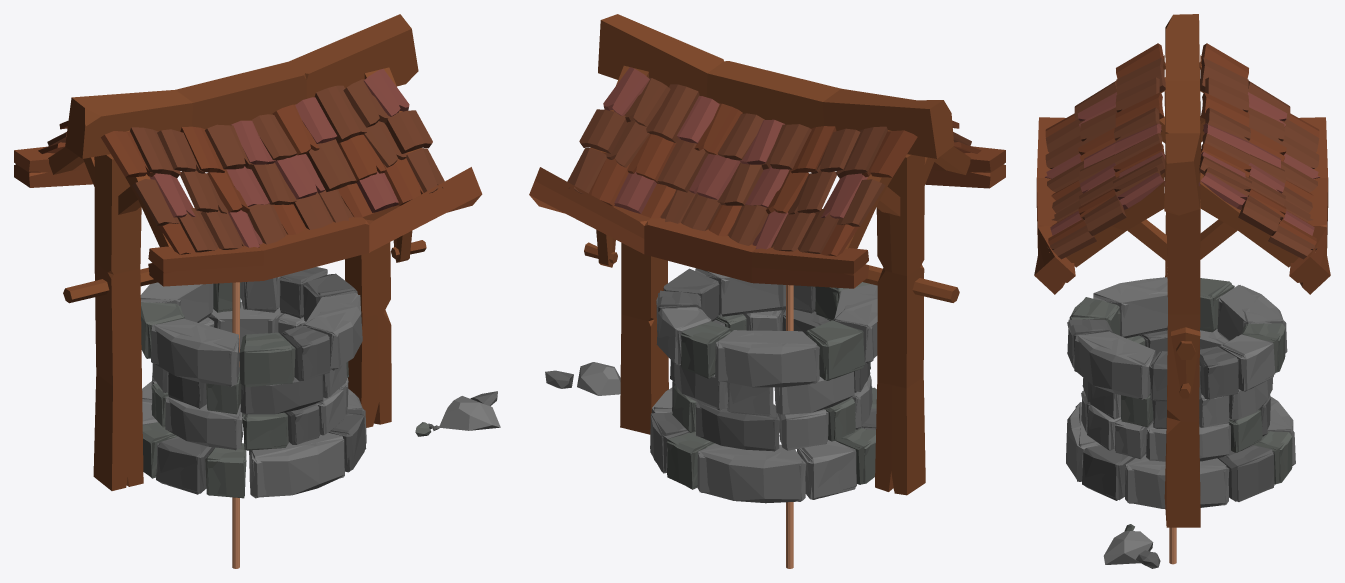
Rendered from well.fbx.
3 renders of one model, left to right at view 1: azimuth 30°, elevation 25°; view 2: azimuth 150°, elevation 25°; view 3: azimuth 270°, elevation 25°, orthographic. The views are drawn at different scales.
Visible parts, largest first — view 1: Cube.004, Cube.009, Cube.006, Cube.007, Cube.003, Cube.001, Cube.002, Cube.005, Cube.064, Cube.048, Icosphere, Cube.065 (+36 smaller); view 2: Cube.004, Cube.009, Cube.006, Cube.007, Cube.003, Cube.005, Cube.002, Cube.001, Cube.064, Cube.048, Cube.065, Cube.053 (+36 smaller); view 3: Cube.004, Cube.003, Cube.005, Cube.009, Cube.007, Cube.001, Cube.002, Cube, Cube.056, Cube.052, Cube.008, Cube.031 (+32 smaller).
Boxes of the visible parts, x1=… form: Cube.004: x1=140, y1=267, x2=362, y2=387; Cube.009: x1=65, y1=14, x2=418, y2=158; Cube.006: x1=93, y1=154, x2=143, y2=490; Cube.007: x1=14, y1=146, x2=482, y2=286; Cube.003: x1=142, y1=381, x2=366, y2=498; Cube.001: x1=151, y1=373, x2=348, y2=450; Cube.002: x1=152, y1=302, x2=348, y2=414; Cube.005: x1=345, y1=242, x2=391, y2=427; Cube.064: x1=314, y1=85, x2=367, y2=143; Cube.048: x1=306, y1=139, x2=356, y2=191; Icosphere: x1=439, y1=396, x2=500, y2=430; Cube.065: x1=59, y1=121, x2=155, y2=177; Cube.004: x1=656, y1=268, x2=877, y2=387; Cube.009: x1=598, y1=14, x2=954, y2=158; Cube.006: x1=875, y1=154, x2=925, y2=495; Cube.007: x1=529, y1=146, x2=1005, y2=288; Cube.003: x1=650, y1=387, x2=876, y2=503; Cube.005: x1=620, y1=242, x2=668, y2=434; Cube.002: x1=670, y1=308, x2=870, y2=416; Cube.001: x1=672, y1=375, x2=872, y2=451; Cube.064: x1=646, y1=84, x2=699, y2=142; Cube.048: x1=657, y1=138, x2=708, y2=192; Cube.065: x1=862, y1=120, x2=959, y2=177; Cube.053: x1=689, y1=154, x2=740, y2=199; Cube.004: x1=1067, y1=277, x2=1287, y2=401; Cube.003: x1=1066, y1=396, x2=1295, y2=508; Cube.005: x1=1164, y1=200, x2=1200, y2=527; Cube.009: x1=1164, y1=14, x2=1200, y2=215; Cube.007: x1=1034, y1=117, x2=1330, y2=294; Cube.001: x1=1081, y1=389, x2=1270, y2=461; Cube.002: x1=1082, y1=329, x2=1272, y2=428; Cube: x1=1066, y1=55, x2=1298, y2=267; Cube.056: x1=1116, y1=57, x2=1248, y2=94; Cube.052: x1=1084, y1=198, x2=1280, y2=235; Cube.008: x1=1127, y1=116, x2=1237, y2=261; Cube.031: x1=1047, y1=225, x2=1317, y2=259.
Size of the model in its own units: 392 by 452 by 251.
